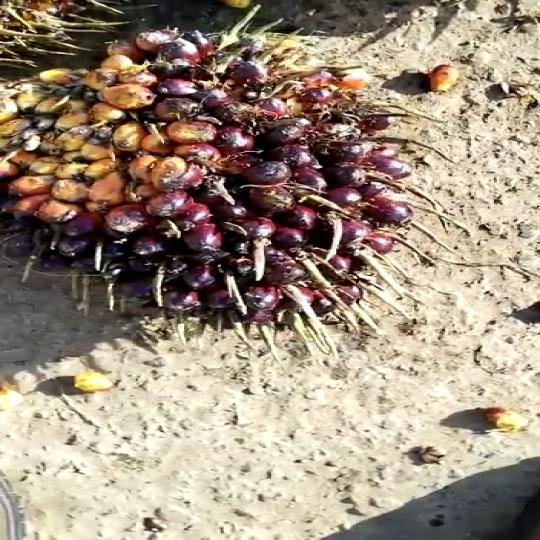kurang masak: (0, 5, 434, 317)
